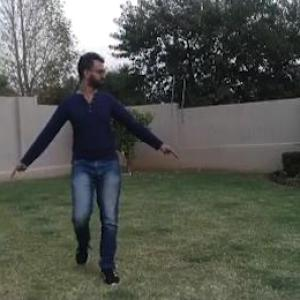land: (7, 50, 181, 279)
